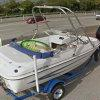Boat: (3, 13, 97, 94)
